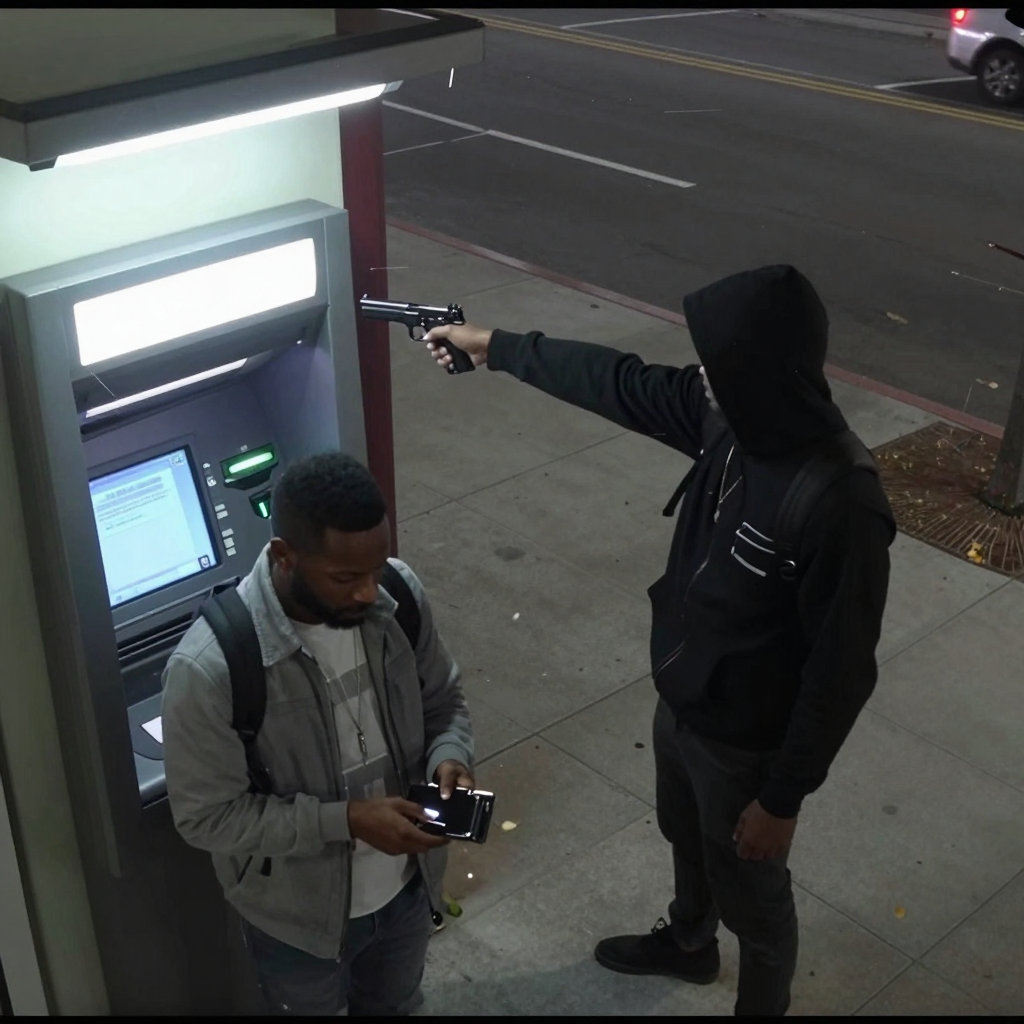Robbery: (421, 263, 898, 1016), (160, 452, 477, 1017)
Shooting: (360, 298, 475, 375)
